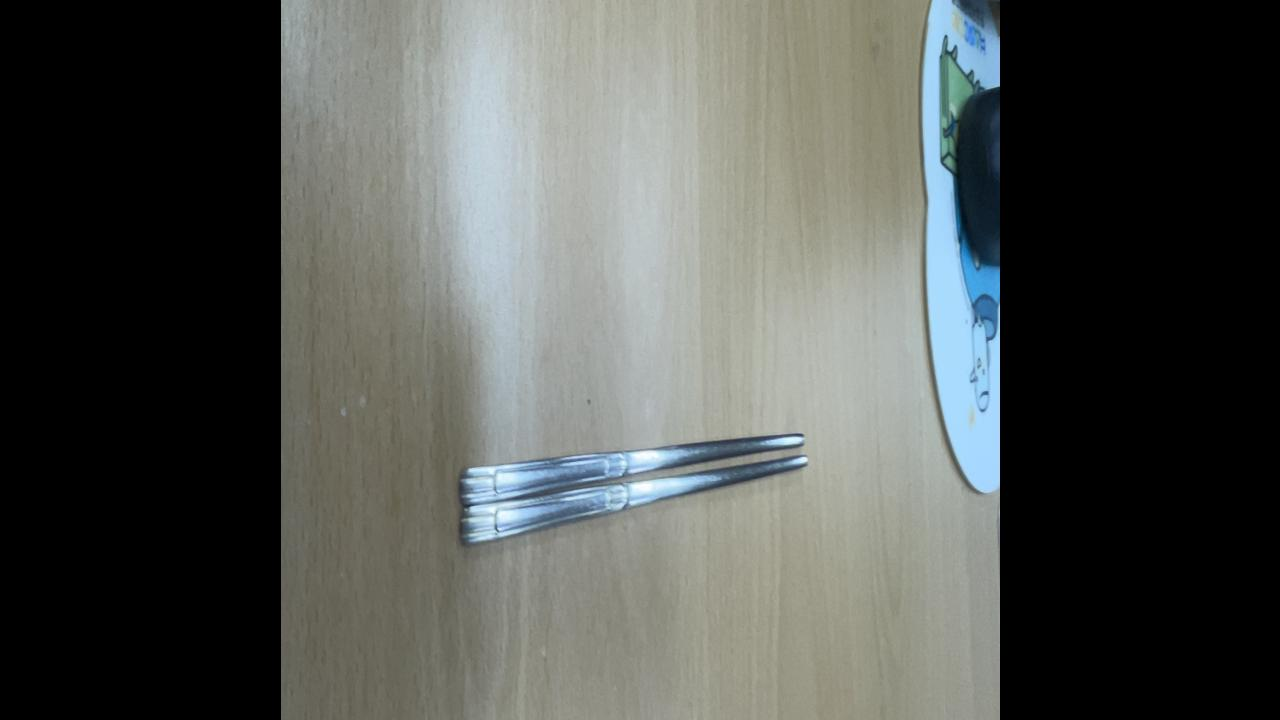chopstick: (455, 428, 807, 553)
